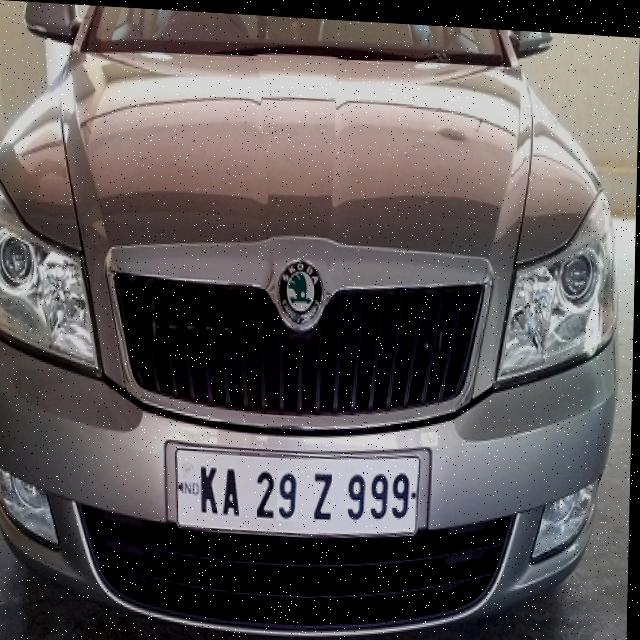plate: (170, 434, 424, 539)
